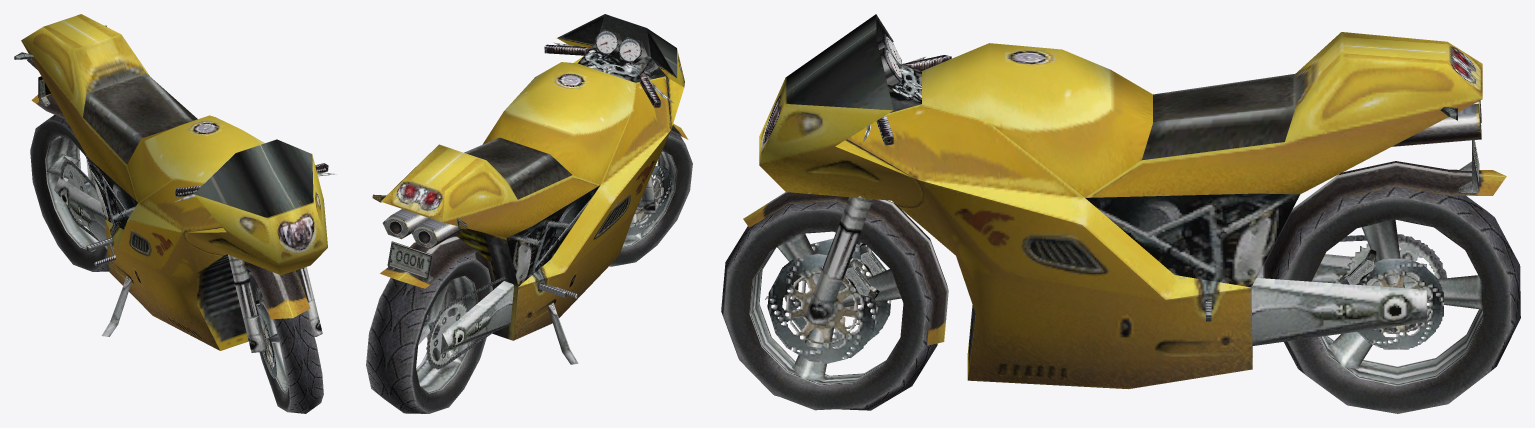
File: bike_parked_tilt.fbx
3 renders of one model, left to right at view 1: azimuth 30°, elevation 25°; view 2: azimuth 150°, elevation 25°; view 3: azimuth 270°, elevation 25°, orthographic. The views are drawn at different scales.
Parts seen in each view (by area): view 1: mesh_0, mesh_1; view 2: mesh_0, mesh_1; view 3: mesh_0, mesh_1.
Part boxes in pixels (<box>): mesh_0: <box>14,14,336,413</box>; mesh_1: <box>60,159,276,378</box>; mesh_0: <box>366,14,692,413</box>; mesh_1: <box>426,166,672,369</box>; mesh_0: <box>721,14,1520,413</box>; mesh_1: <box>765,234,1449,363</box>.
Size of the model in its own units: 70.76 by 115 by 226.
Materials: 2 (2 with a texture image).
